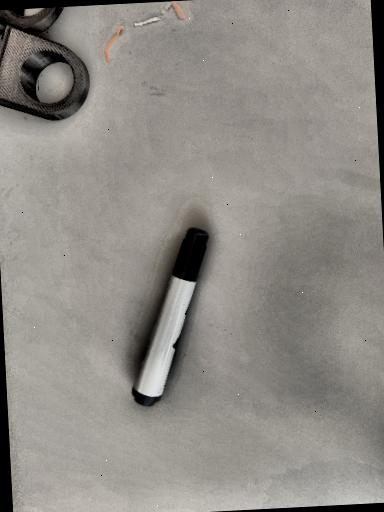marcador negro: (132, 227, 209, 405)
